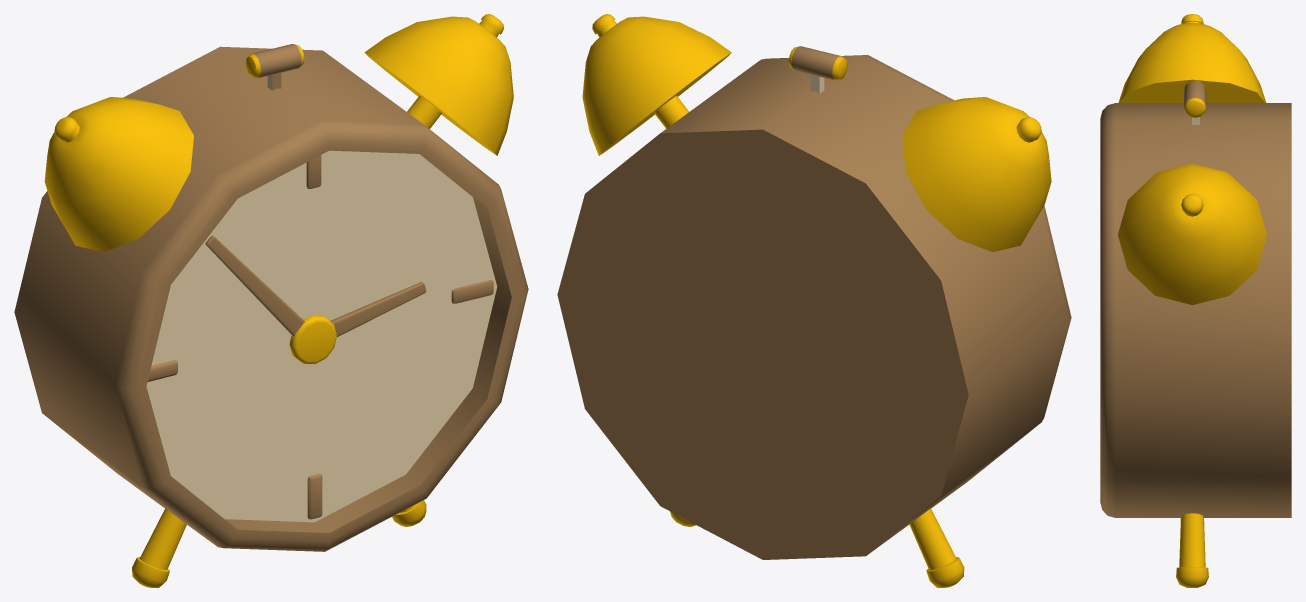
Rendered from Clock_5C.fbx.
3 renders of one model, left to right at view 1: azimuth 30°, elevation 25°; view 2: azimuth 150°, elevation 25°; view 3: azimuth 270°, elevation 25°, orthographic. The views are drawn at different scales.
Parts seen in each view (by area): view 1: Clock_5C, Clock_5C Attachment_2, Clock_5C Attachment; view 2: Clock_5C; view 3: Clock_5C.
Boxes of the visible parts, <box> form: Clock_5C: <box>14,14,528,587</box>; Clock_5C Attachment_2: <box>205,235,304,336</box>; Clock_5C Attachment: <box>330,282,426,336</box>; Clock_5C: <box>557,14,1071,587</box>; Clock_5C: <box>1100,14,1291,587</box>.
Size of the model in its own units: 0.354 by 0.3796 by 0.1487.
